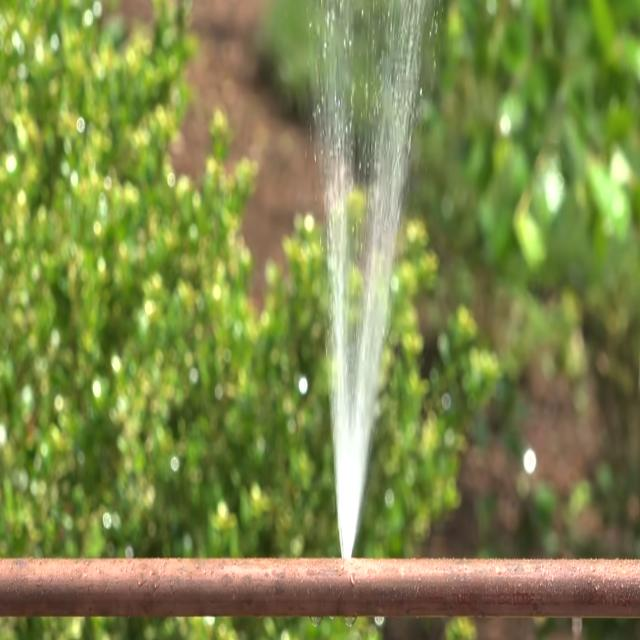leak: (315, 0, 428, 558)
